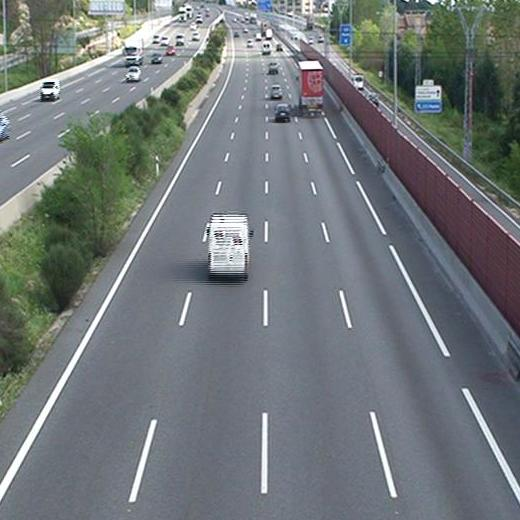car: (274, 103, 293, 120), (269, 85, 284, 100), (268, 62, 279, 74)
truck: (297, 63, 326, 116)
van: (207, 216, 250, 277)
